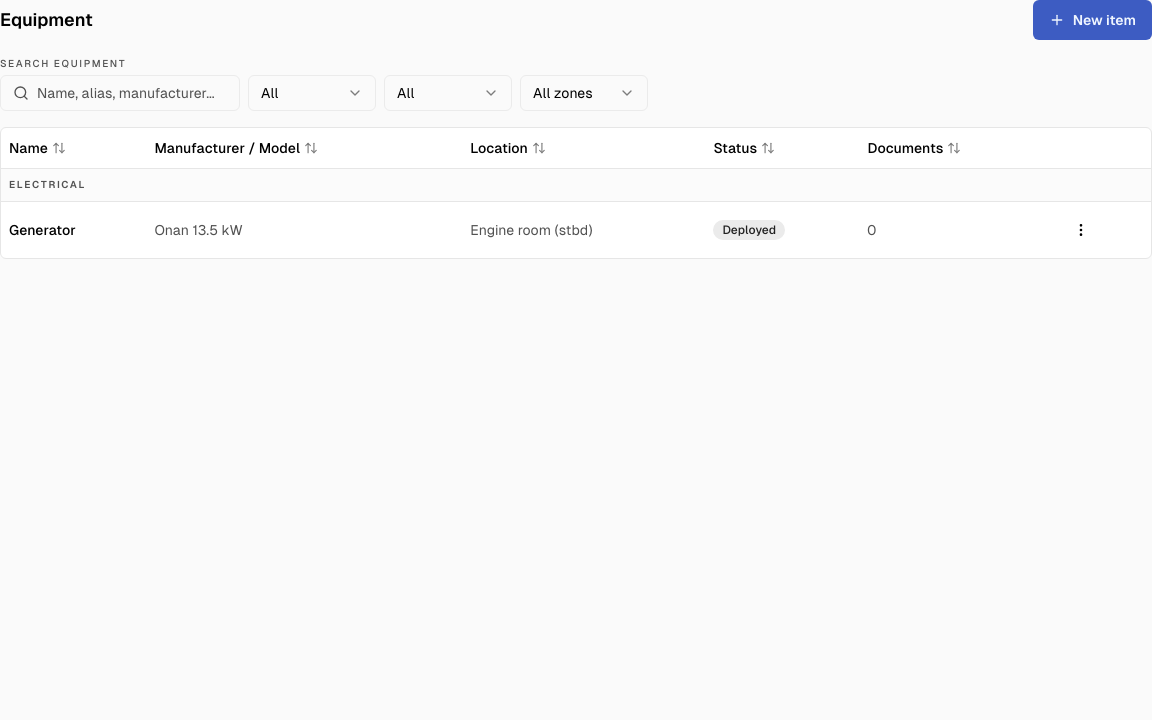
Test: EquipmentIndex › says what uses the item before a delete, and deletes only once that is known
The image size is (1152, 720).
Expected: the text "Generator" is shown, 9,222 -> 76,238
Click the button named "Actions for Generator". click: (1080, 230)
box: 1060,210 -> 1100,250
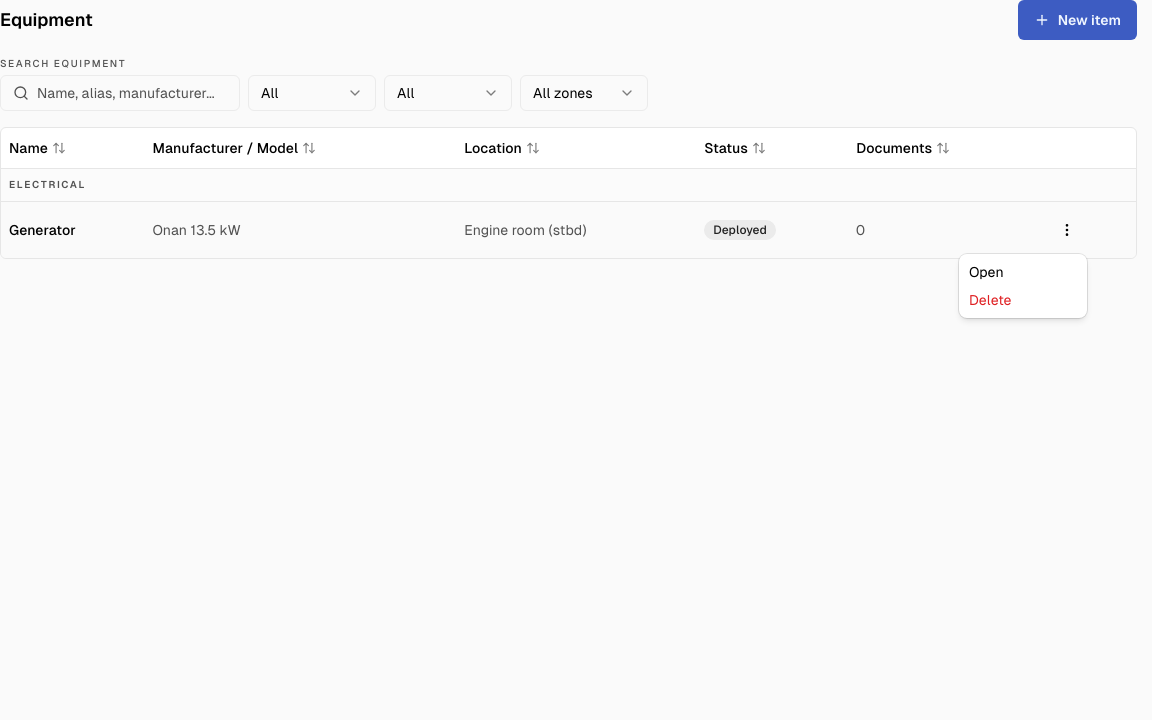
Click the menu item "Delete". click: (990, 300)
box: 969,292 -> 1012,308
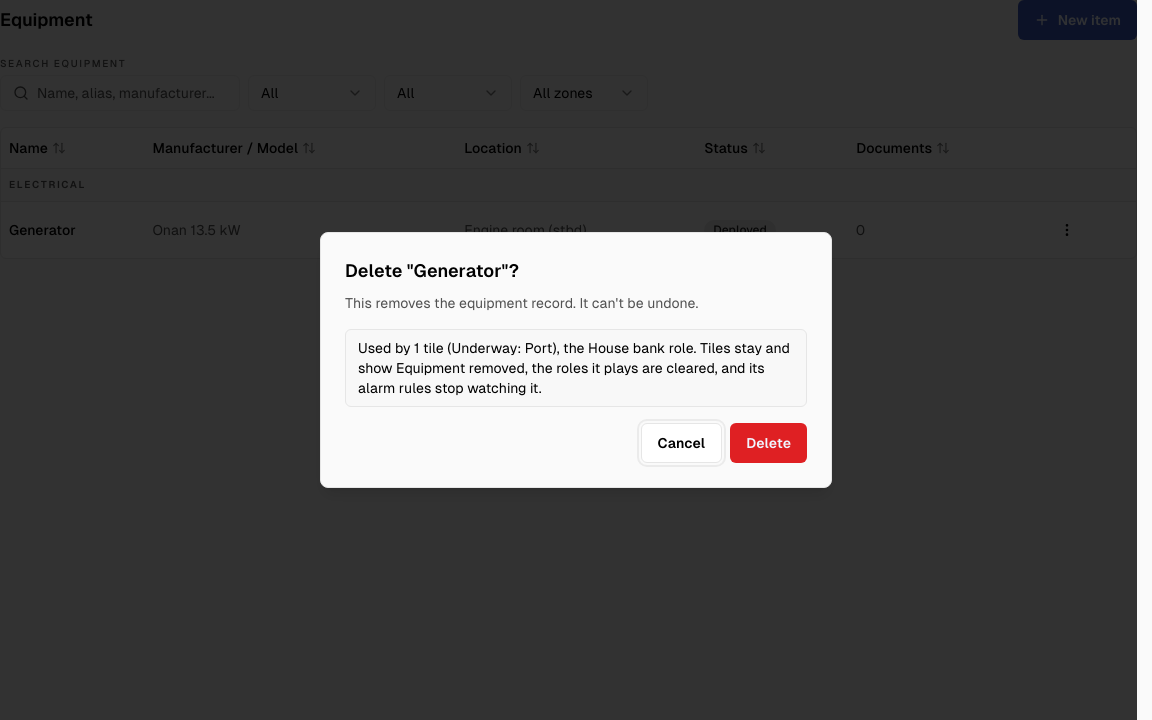
Result: the text with test id "equipment-dependants" shows "Used by 1 tile (Underway: Port), the House bank role." at 358,340 -> 696,356
Result: the text with test id "equipment-dependants" shows "Tiles stay and show Equipment removed" at 358,340 -> 790,396
